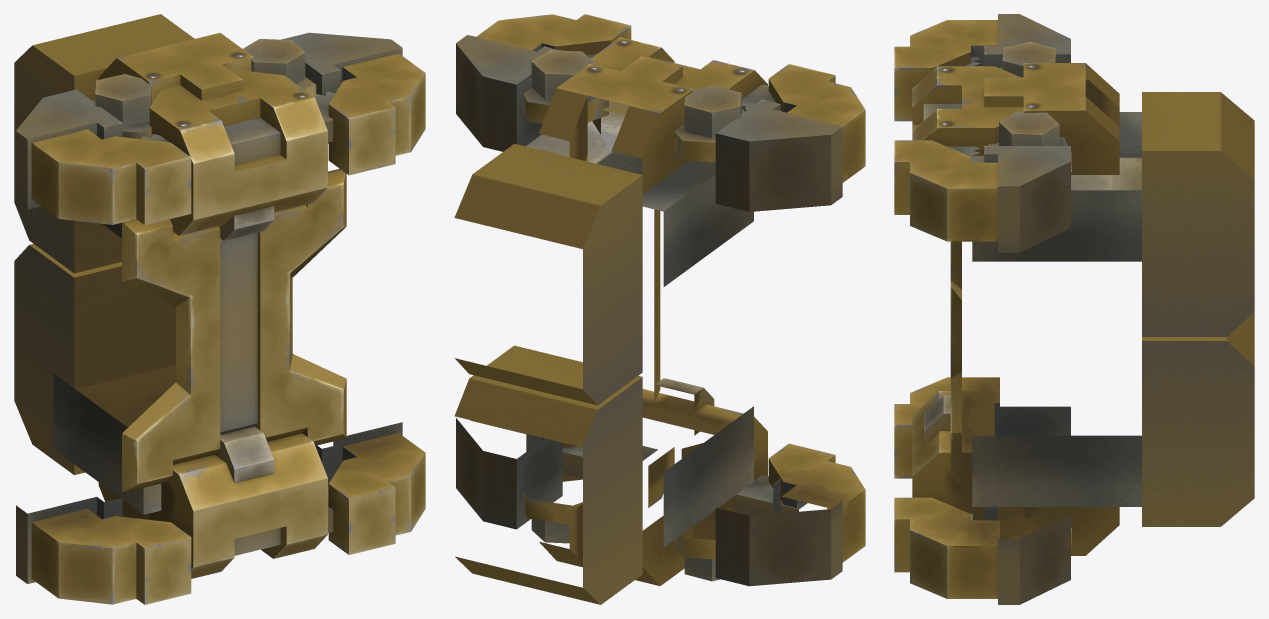
The model's file is 5wide_01.glb.
3 views of the same model, side by side, from view 1: azimuth 30°, elevation 25°; view 2: azimuth 150°, elevation 25°; view 3: azimuth 270°, elevation 25° (orthographic). The views are drawn at different scales.
Visible parts, largest first — view 1: connector_structures.5wide_01-Mesh[1], connector_structures.5wide_01-Mesh[0]; view 2: connector_structures.5wide_01-Mesh[1], connector_structures.5wide_01-Mesh[0]; view 3: connector_structures.5wide_01-Mesh[1], connector_structures.5wide_01-Mesh[0].
Boxes of the visible parts, box(x1,y1,x2,y2) form: connector_structures.5wide_01-Mesh[1]: box(14, 14, 425, 604); connector_structures.5wide_01-Mesh[0]: box(122, 168, 346, 492); connector_structures.5wide_01-Mesh[1]: box(454, 14, 865, 604); connector_structures.5wide_01-Mesh[0]: box(654, 209, 660, 402); connector_structures.5wide_01-Mesh[1]: box(894, 14, 1254, 604); connector_structures.5wide_01-Mesh[0]: box(950, 241, 961, 488).
Bounding box in the file's own units: 7.24 × 8.72 × 6.4.
1 material, 1 textured.
